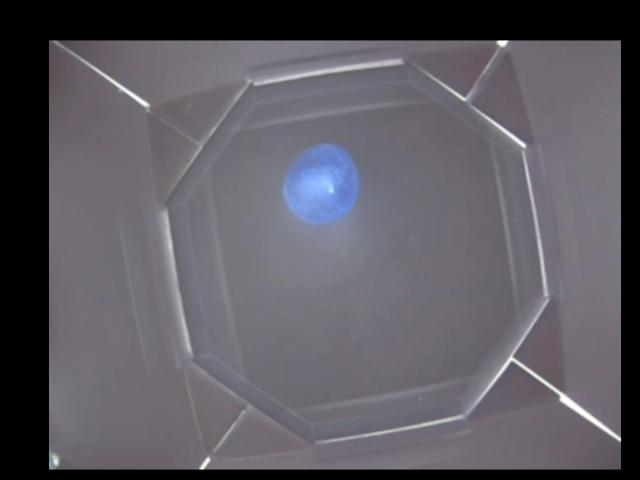Potato: (284, 142, 357, 224)
